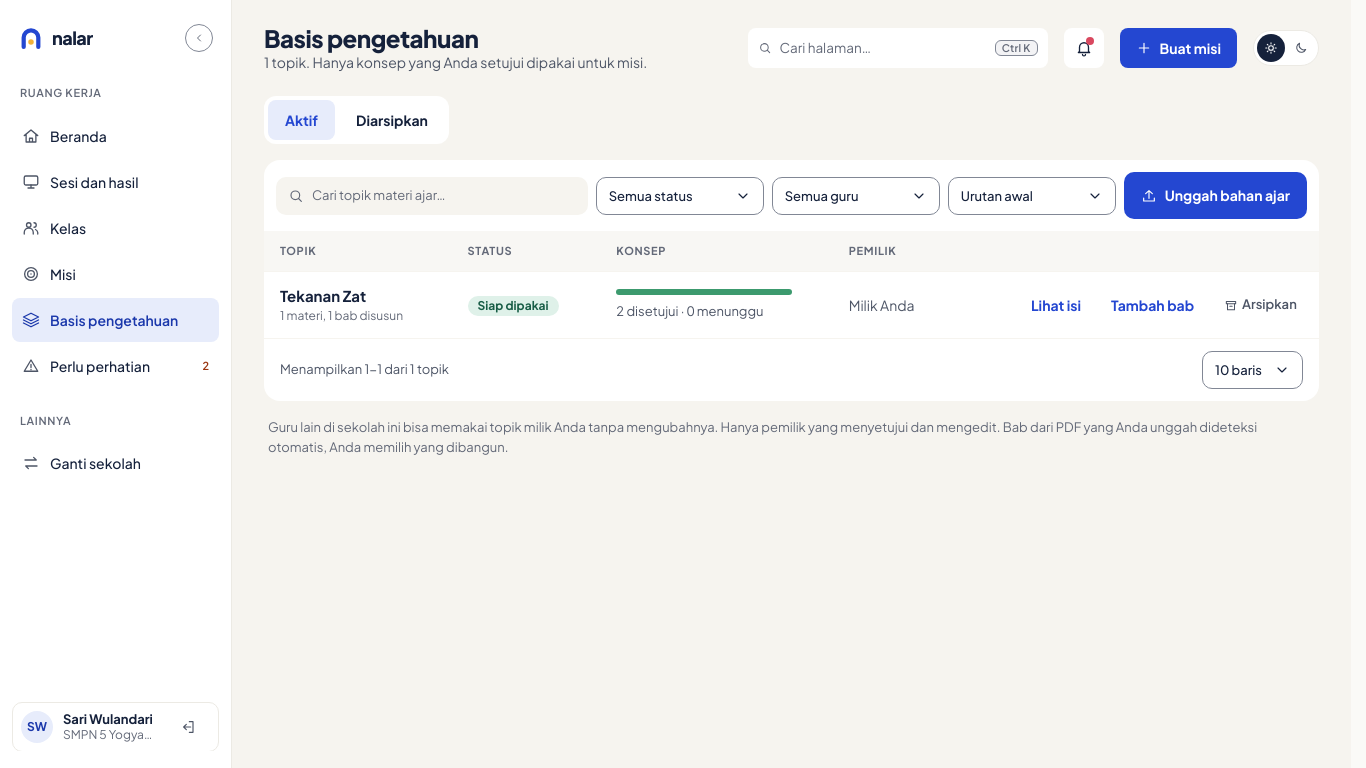
Test: signed-in teacher pages › clears active results immediately while an archived library read is pending
expect the link "Tekanan Zat" is shown: met, box [280,286,366,306]
What coordinates should you click on to do the following:
click the button "Diarsipkan"
I would click on:
 (392, 120)
Its box is [339,100,445,140].
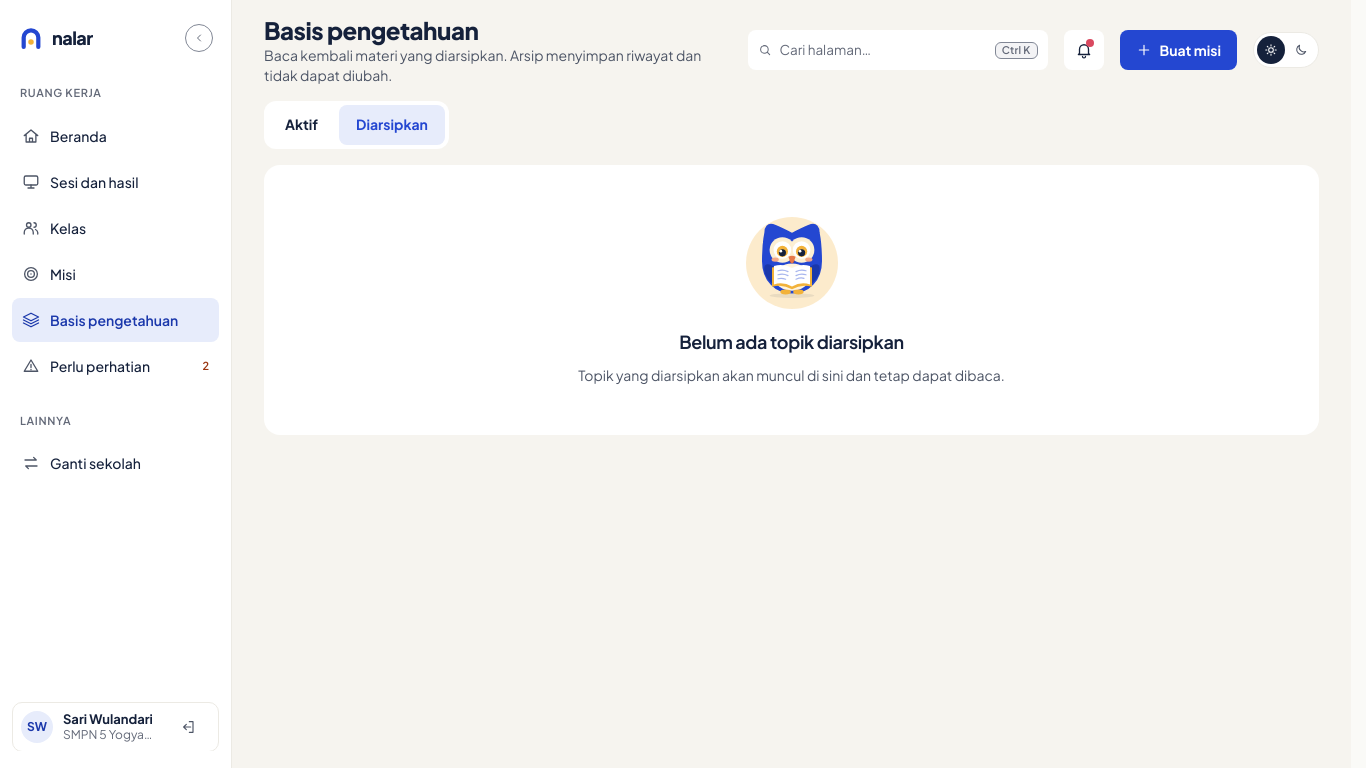
expect the link "Tekanan Zat" is gone: met
expect the heading "Belum ada topik diarsipkan" is shown: met, box [679,330,904,353]
What coordinates should you click on to do the following:
click the button "Aktif"
I would click on:
 (302, 125)
Its box is [268,105,335,145].
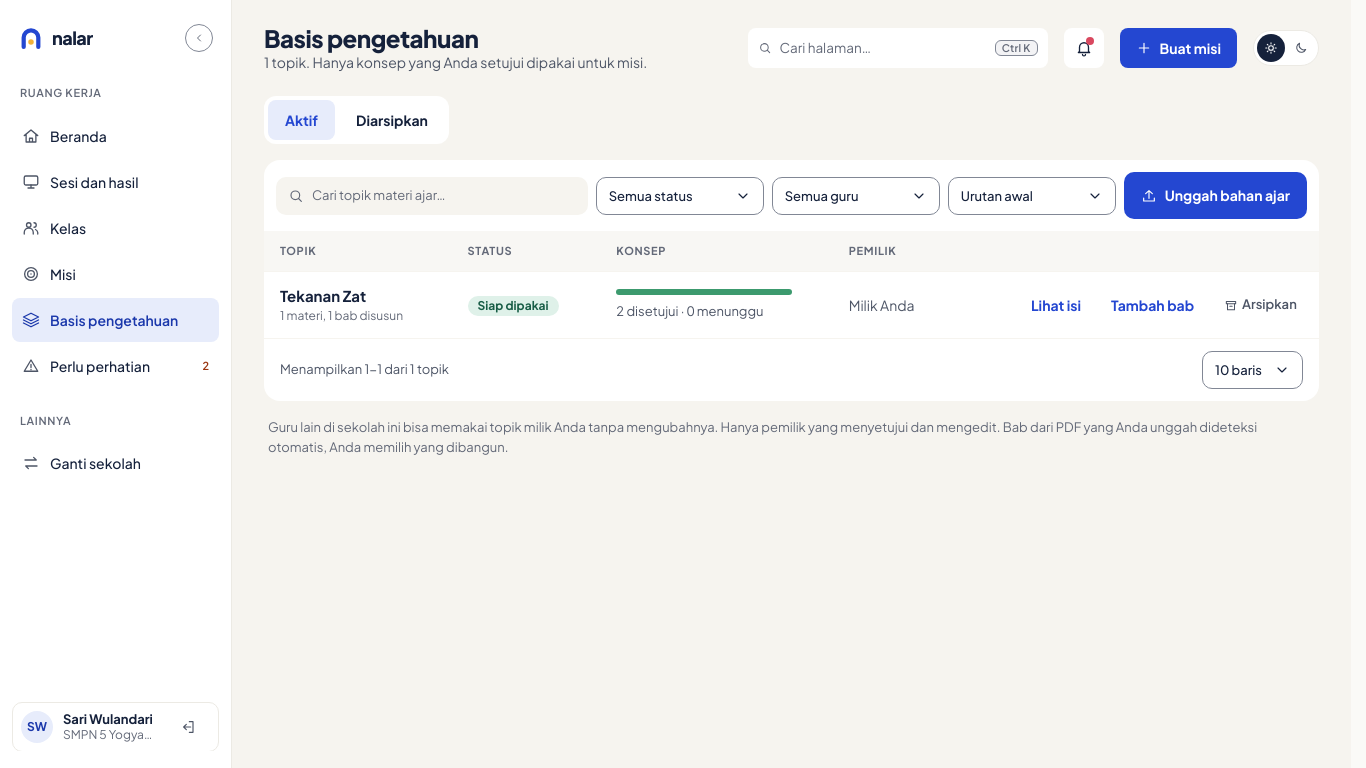
expect the link "Tekanan Zat" is shown: met, box [280,286,366,306]
